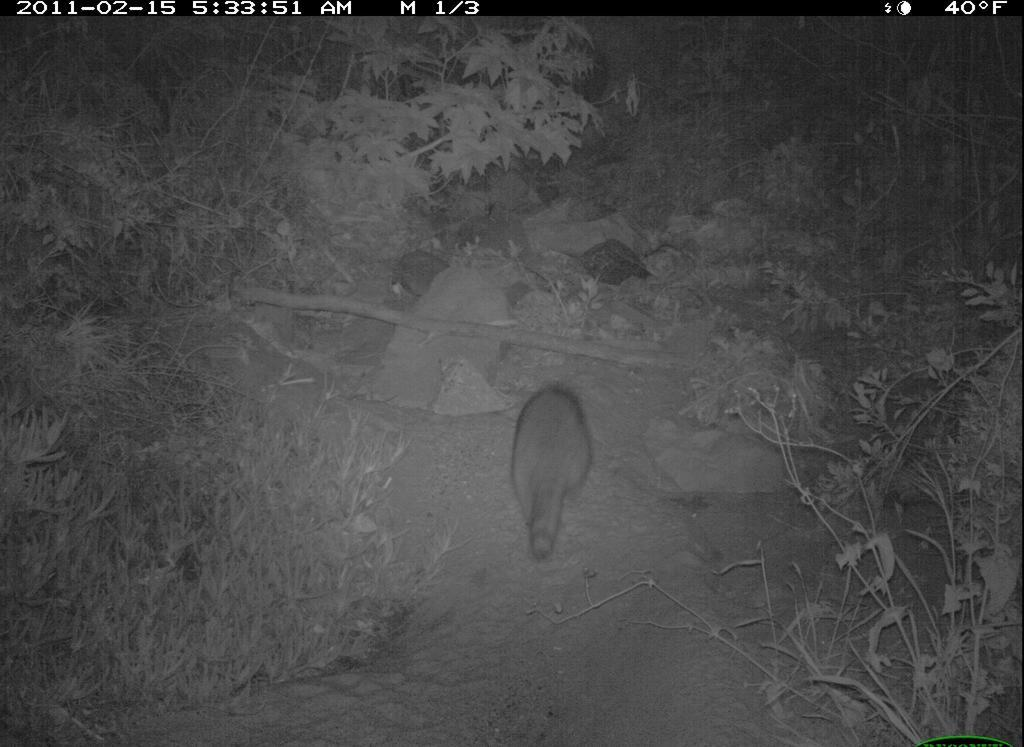raccoon: (505, 379, 602, 564)
